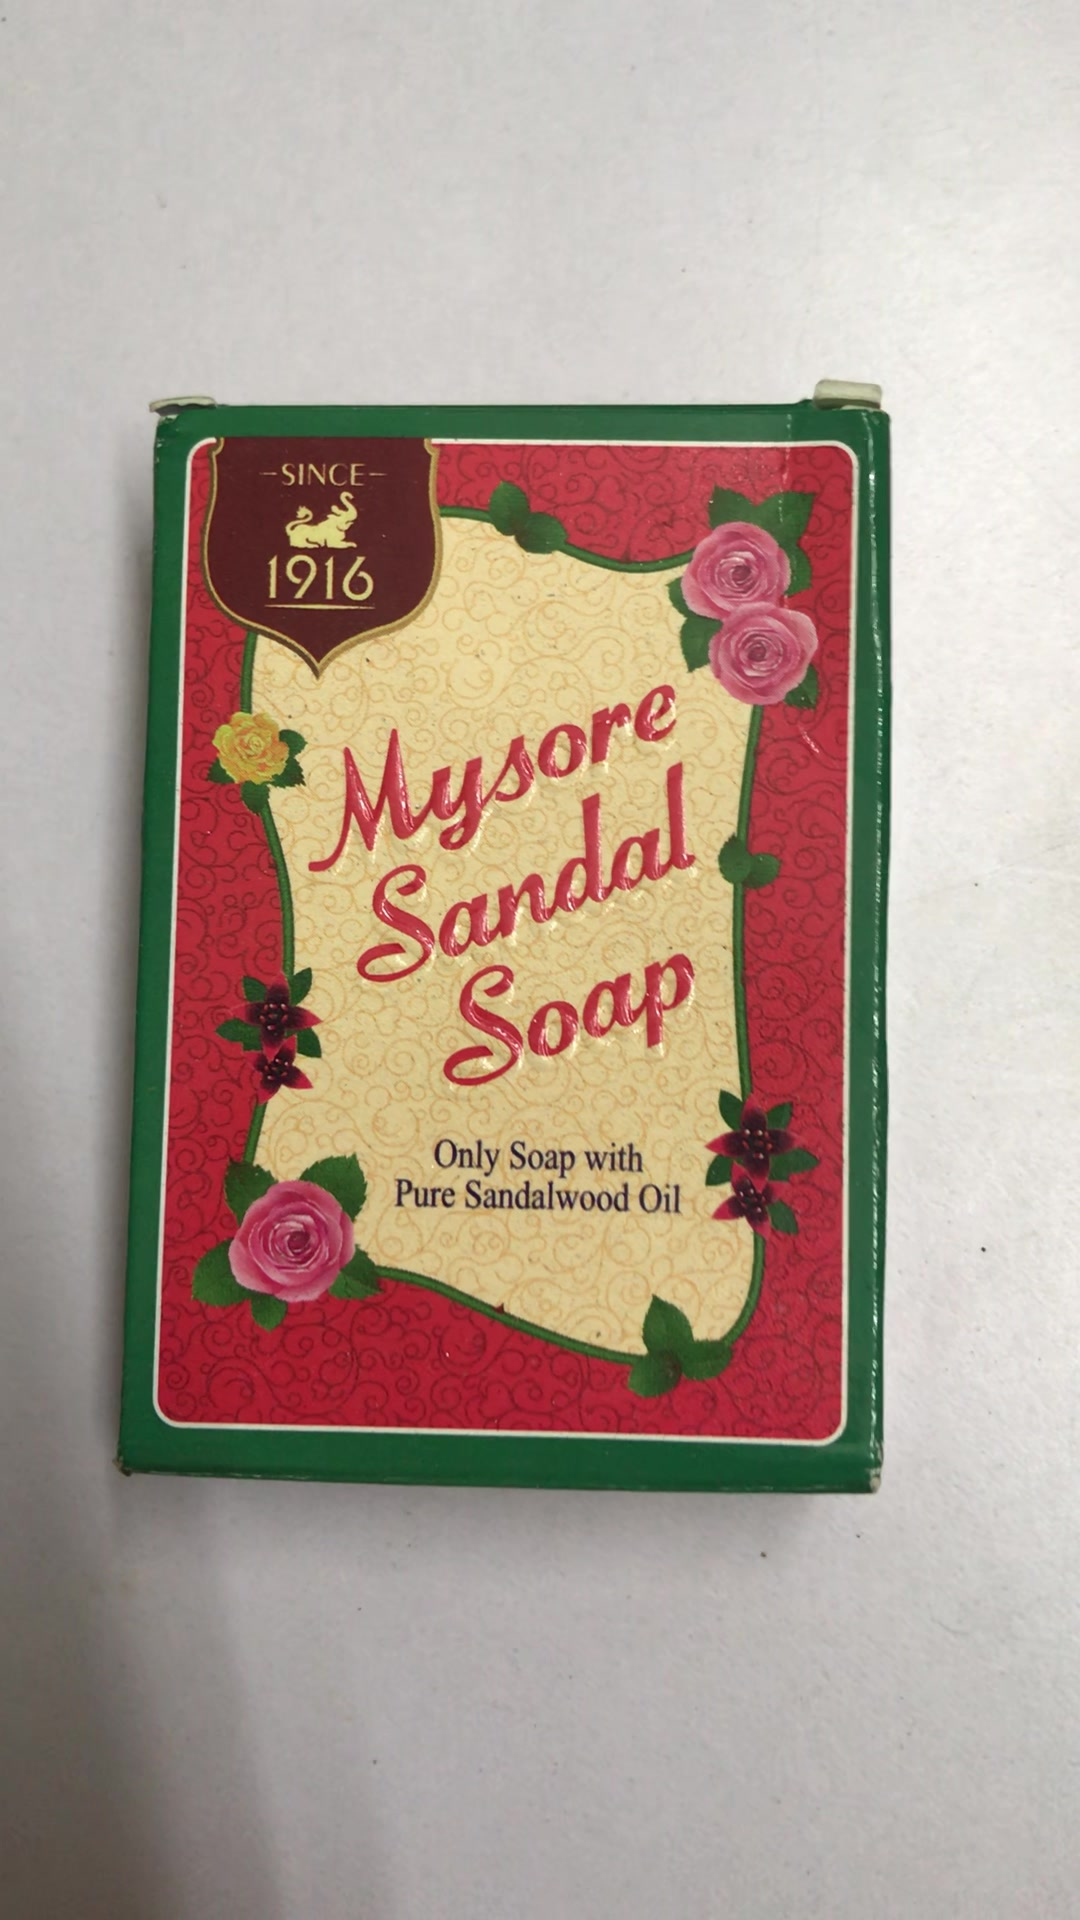mysore sandal soap: (128, 388, 890, 1490)
